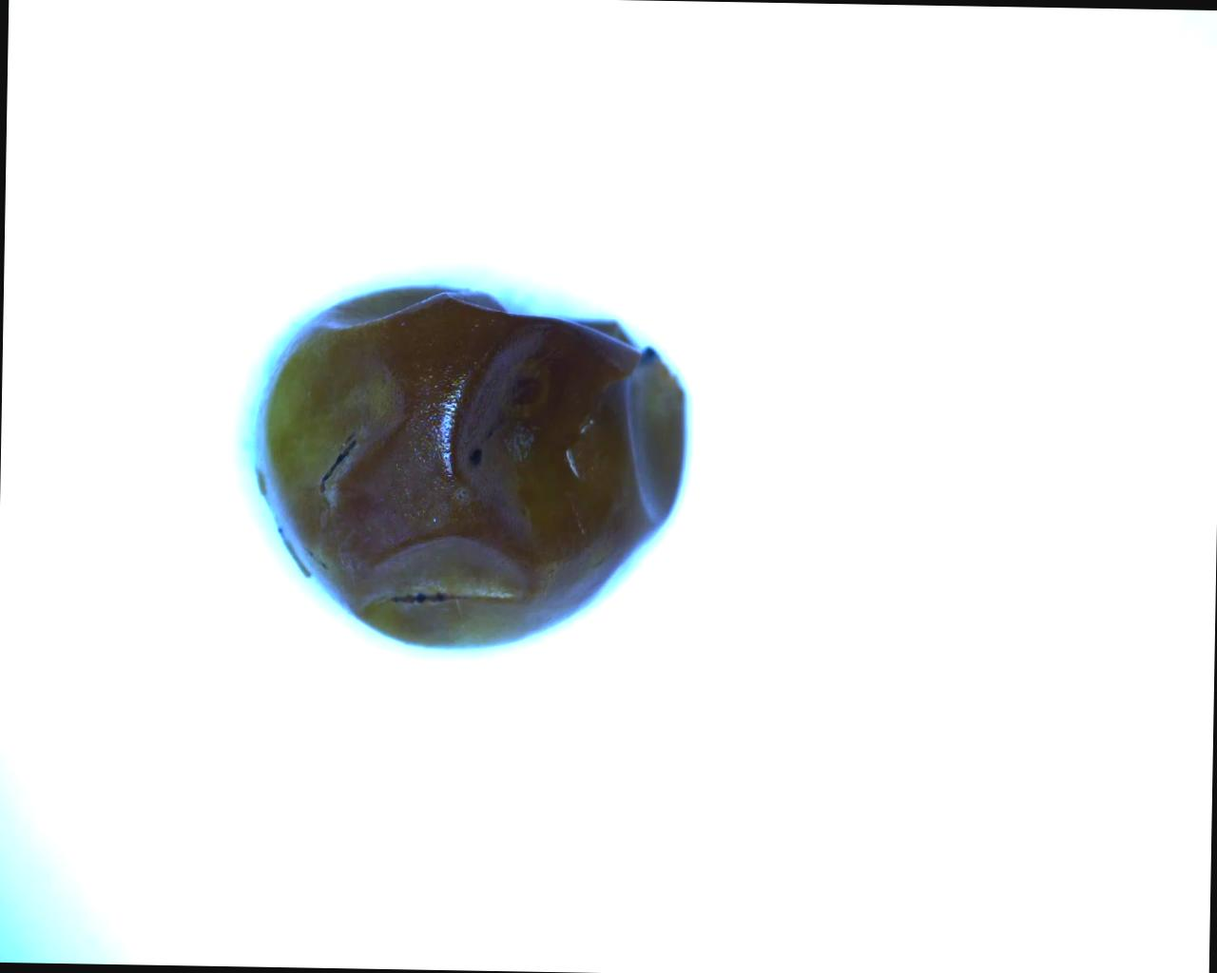Grape Rotten: (245, 279, 691, 654)
